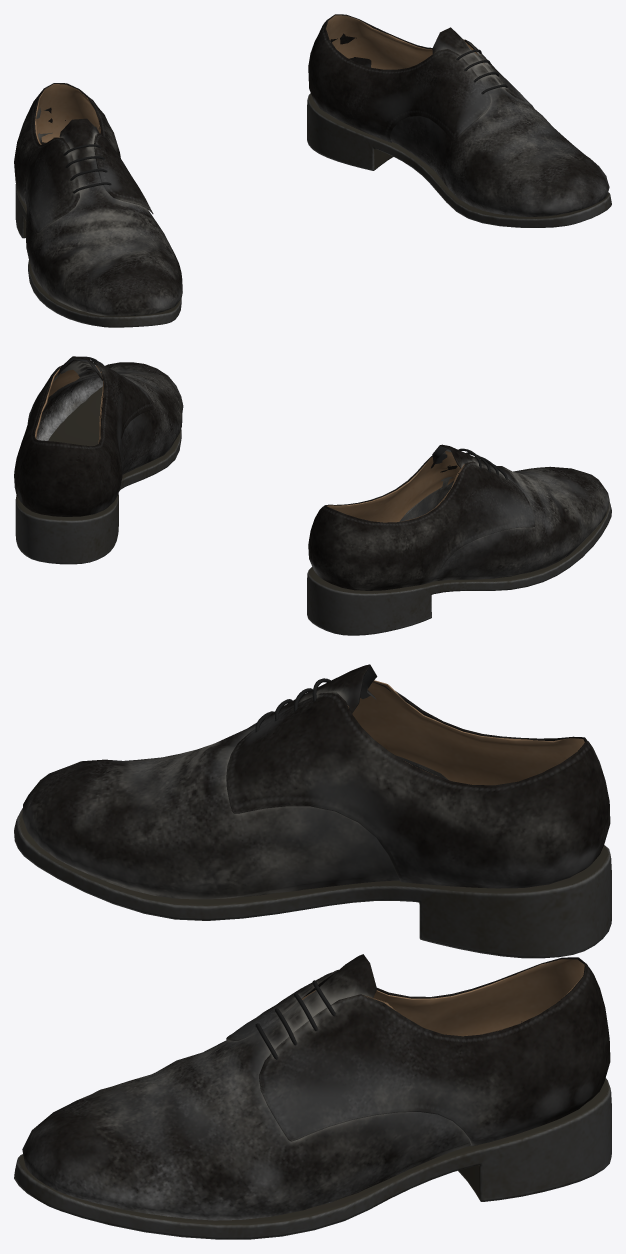
File: old_man_shoes.glb
3 views of the same model, one above another, from view 1: azimuth 30°, elevation 25°; view 2: azimuth 150°, elevation 25°; view 3: azimuth 270°, elevation 25° (orthographic). The views are drawn at different scales.
Parts seen in each view (by area): view 1: logan:Shoes_part2_high, logan:Shoes_part3_high, logan:shoes_part1_low, logan:shoes_part4_low, logan:shoes_part5_low; view 2: logan:Shoes_part3_high, logan:Shoes_part2_high, logan:shoes_part1_low, logan:shoes_part4_low; view 3: logan:Shoes_part2_high, logan:Shoes_part3_high, logan:shoes_part1_low, logan:shoes_part4_low, logan:shoes_part5_low.
Boxes of the visible parts, x1=… form: logan:Shoes_part2_high: x1=24, y1=27, x2=609, y2=316; logan:Shoes_part3_high: x1=14, y1=14, x2=533, y2=233; logan:shoes_part1_low: x1=15, y1=93, x2=611, y2=327; logan:shoes_part4_low: x1=35, y1=15, x2=484, y2=144; logan:shoes_part5_low: x1=63, y1=49, x2=507, y2=193; logan:Shoes_part3_high: x1=14, y1=361, x2=535, y2=590; logan:Shoes_part2_high: x1=36, y1=356, x2=609, y2=581; logan:shoes_part1_low: x1=15, y1=386, x2=611, y2=635; logan:shoes_part4_low: x1=35, y1=365, x2=464, y2=522; logan:Shoes_part2_high: x1=22, y1=664, x2=521, y2=1220; logan:Shoes_part3_high: x1=226, y1=682, x2=610, y2=1146; logan:shoes_part1_low: x1=14, y1=808, x2=611, y2=1239; logan:shoes_part4_low: x1=302, y1=680, x2=585, y2=1036; logan:shoes_part5_low: x1=255, y1=678, x2=335, y2=1059.
Bounding box in the file's own units: 0.8507 × 0.2171 × 0.5179.
Materials: 1 (1 with a texture image).
